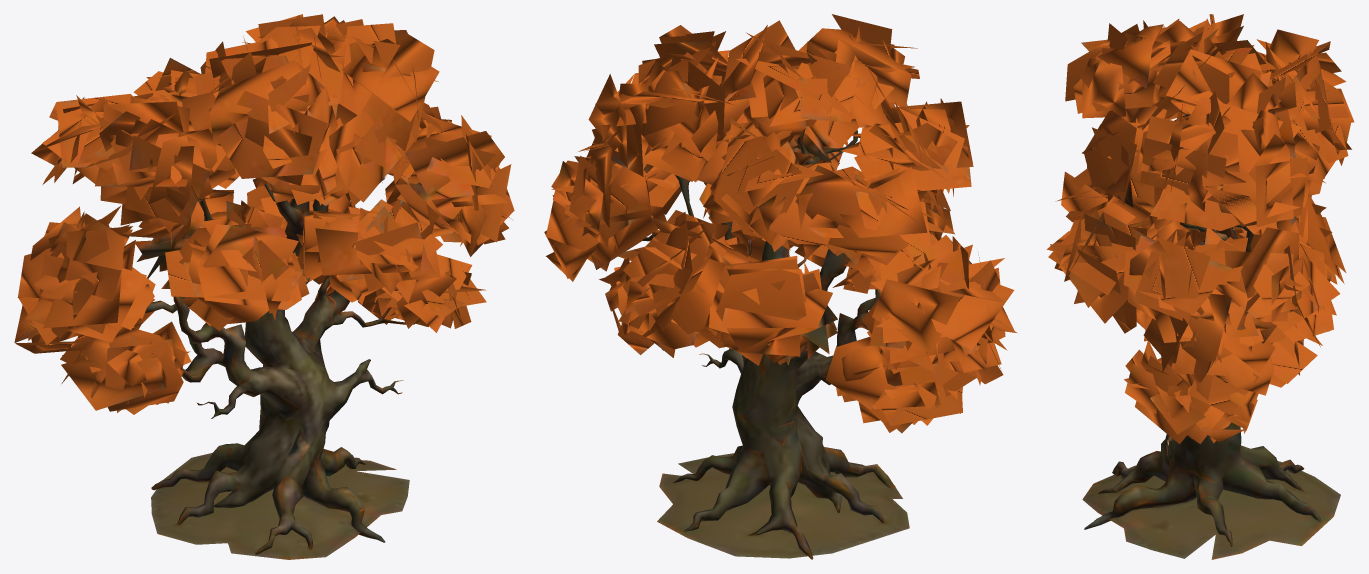
The model's file is oak_autumn.glb.
The picture shows the model from 3 angles, left to right: view 1: azimuth 30°, elevation 25°; view 2: azimuth 150°, elevation 25°; view 3: azimuth 270°, elevation 25°; orthographic projection.
Bounding box in the file's own units: 0.9609 × 0.9205 × 0.5454.
1 material, 1 textured.
